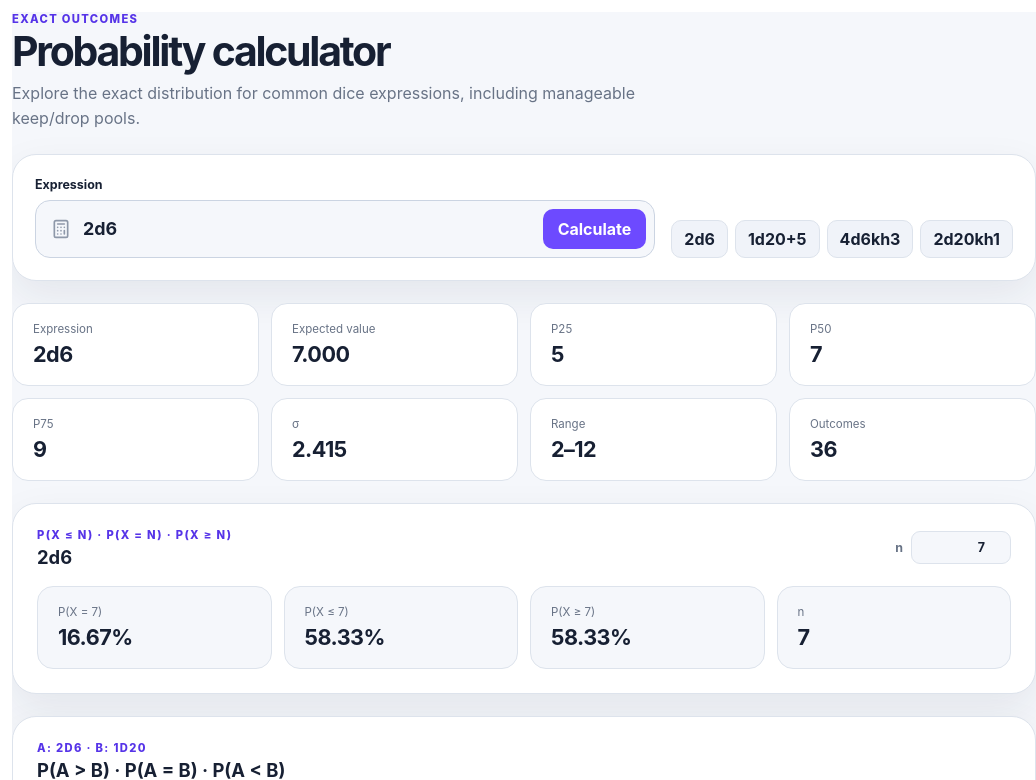
Test: ProbabilityPanel exact insights › resets the threshold to the rounded expected value after a new calculation
The image size is (1036, 780).
Replace the text in the number field labelled "n" with "12" at (961, 548), box [911,532,1011,564]
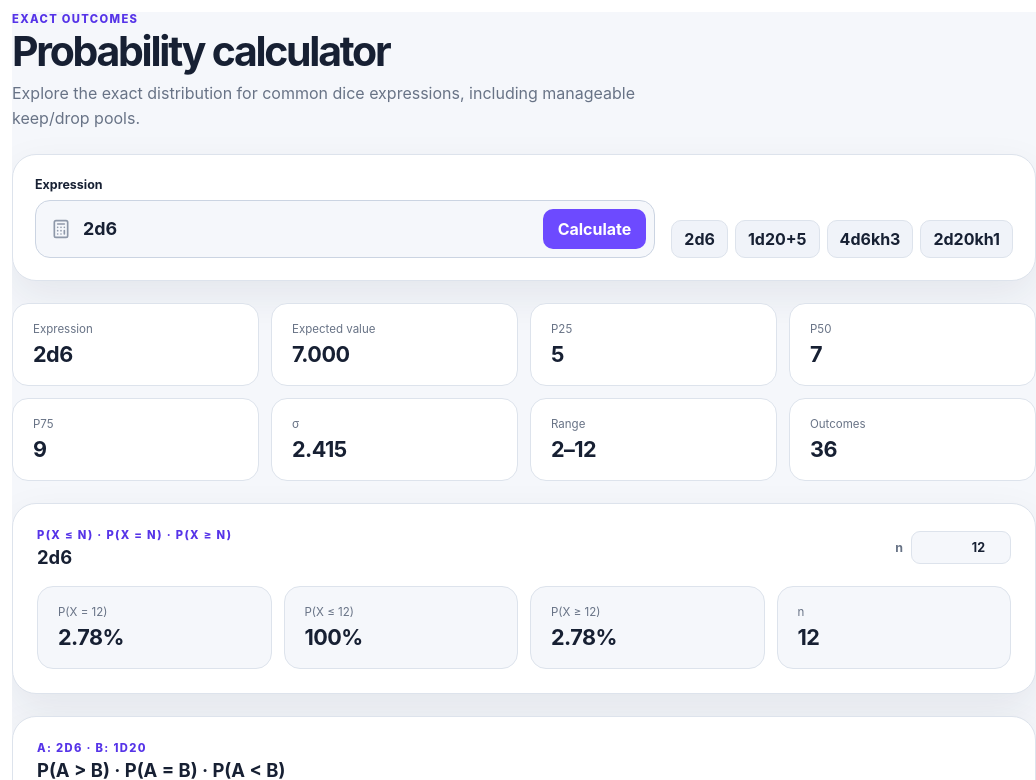
Replace the text in the field labelled "Expression" with "1d20" at (307, 229), box [81,218,533,240]
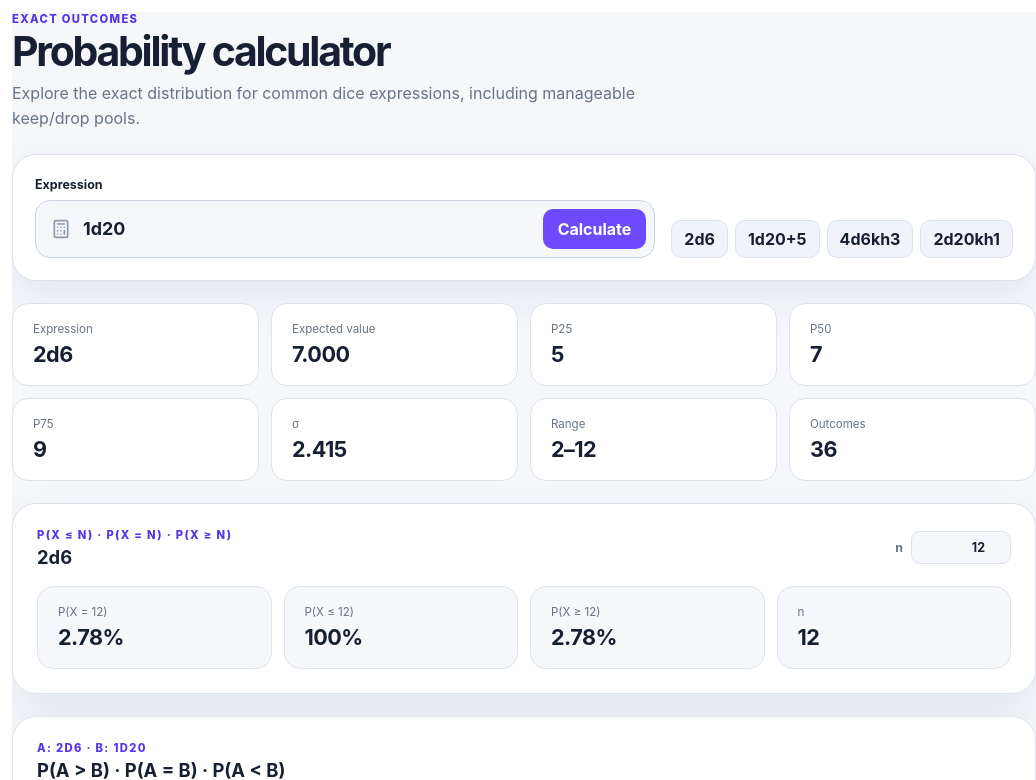
Click the button "Calculate" at (594, 229), box [543,209,646,249]
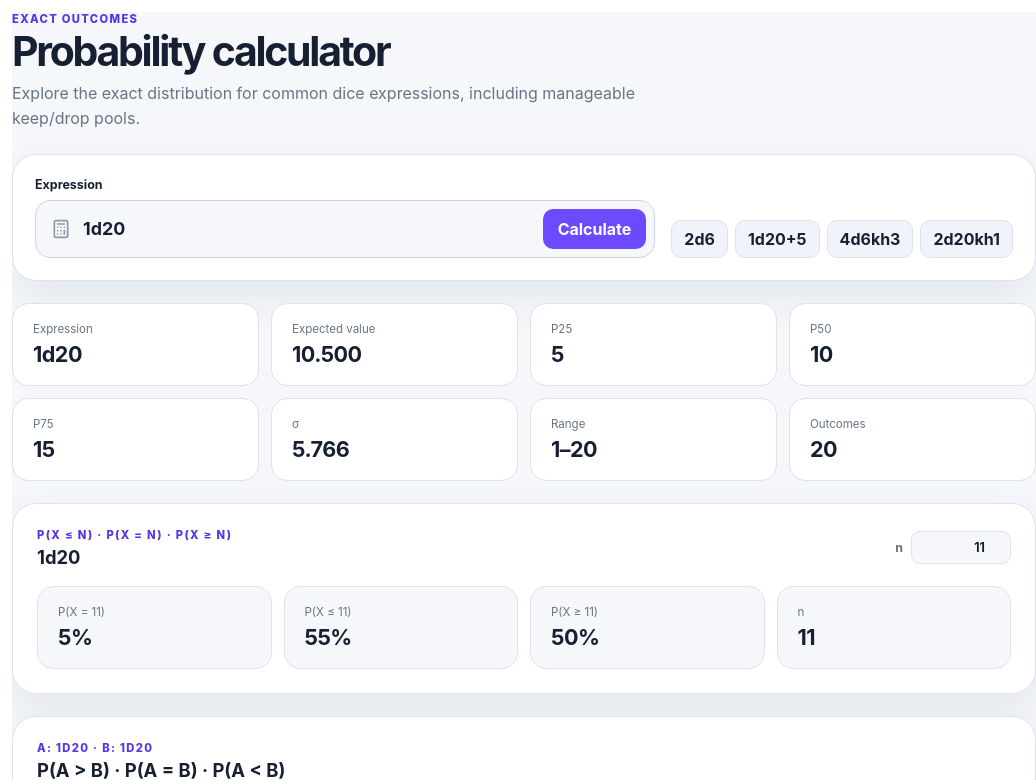
Now the number field labelled "n" holds "11", box [911,532,1011,564]
